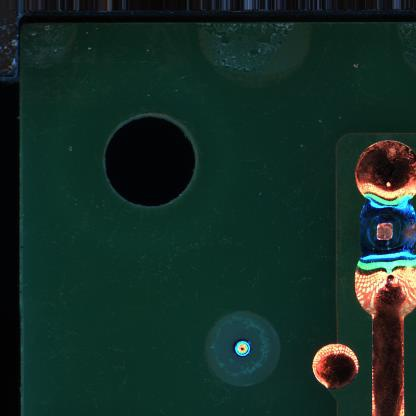spot: (355, 194, 416, 266)
